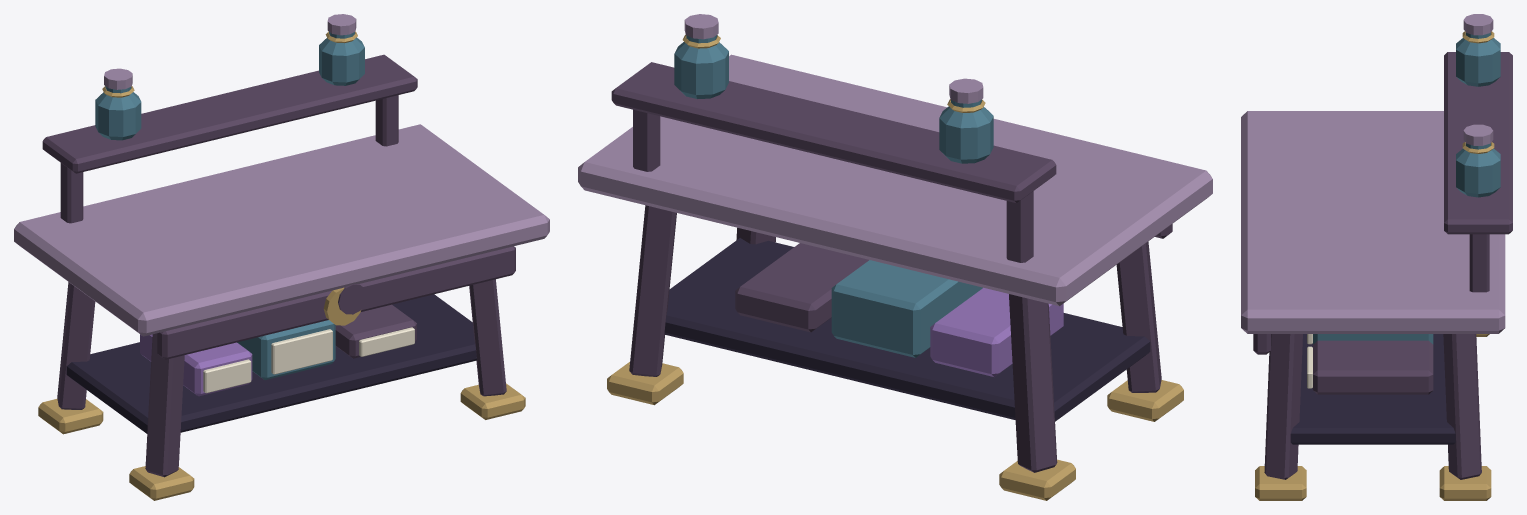
File: 01_Crescent_Workbench.glb
The picture shows the model from 3 angles, left to right: view 1: azimuth 30°, elevation 25°; view 2: azimuth 150°, elevation 25°; view 3: azimuth 270°, elevation 25°; orthographic projection. The views are drawn at different scales.
Parts seen in each view (by area): view 1: 01_Crescent_Workbench__Body; view 2: 01_Crescent_Workbench__Body; view 3: 01_Crescent_Workbench__Body.
Boxes of the visible parts, x1=… form: 01_Crescent_Workbench__Body: x1=14, y1=14, x2=549, y2=500; 01_Crescent_Workbench__Body: x1=578, y1=14, x2=1212, y2=500; 01_Crescent_Workbench__Body: x1=1241, y1=14, x2=1512, y2=500.
Bounding box in the file's own units: 4.13 × 3.16 × 2.32.
Materials: 1 (1 with a texture image).
